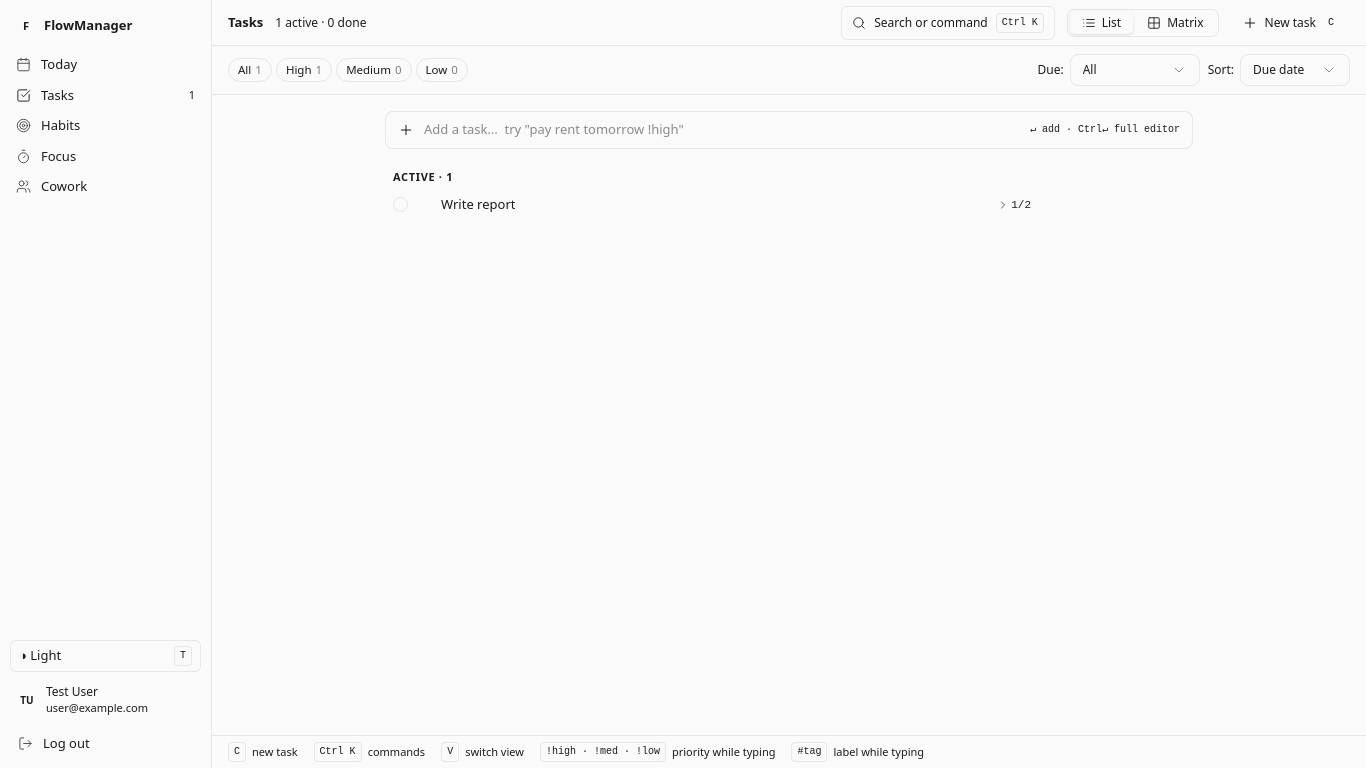
Test: TasksPage › shows subtask progress and expands subtasks on toggle
This screenshot has width=1366, height=768.
Expected: the text "Draft outline" is not shown
What coordinates should you click on to do the following:
click the button named "Toggle subtasks for Write report"
I would click on:
 (1014, 205)
Its box is [993,195,1035,215].
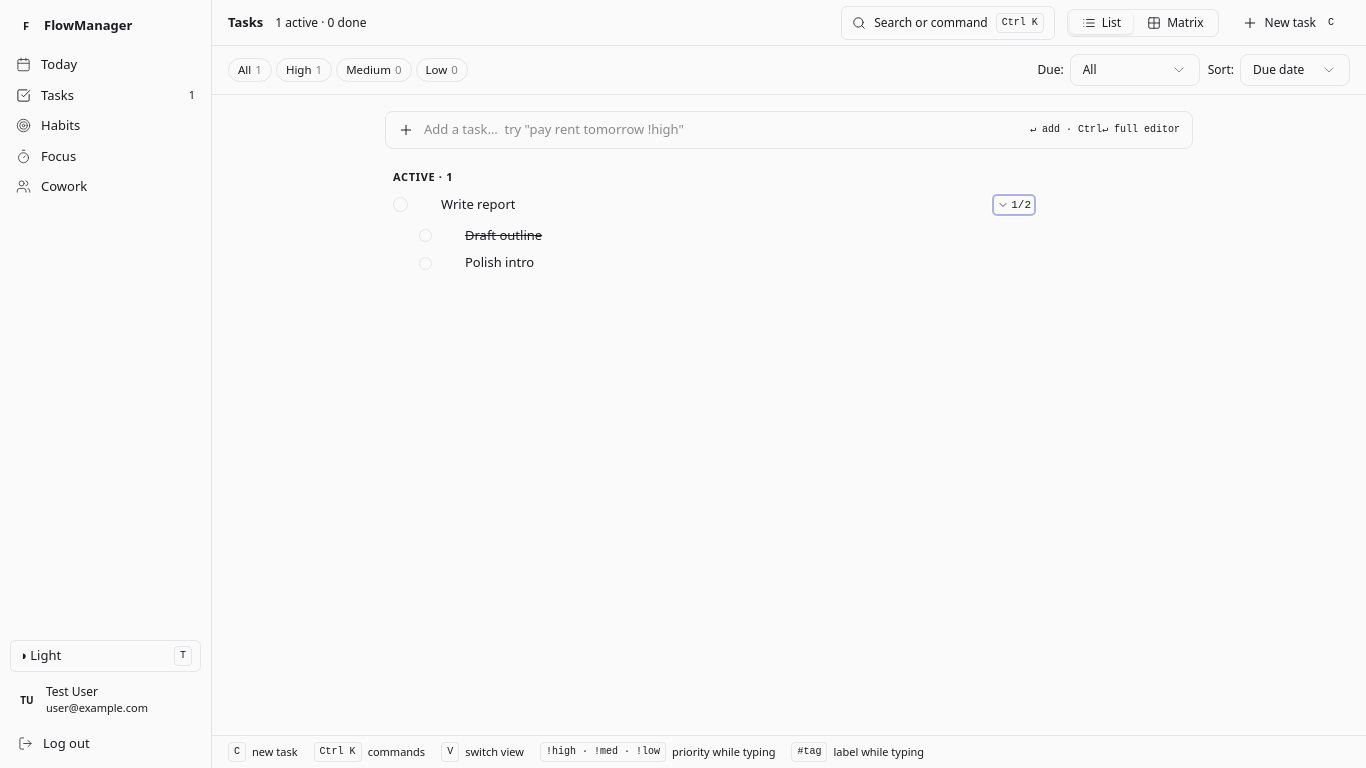
Expected: the text "Draft outline" is shown, [465,226,542,244]
Expected: the text "Polish intro" is shown, [465,253,534,271]
